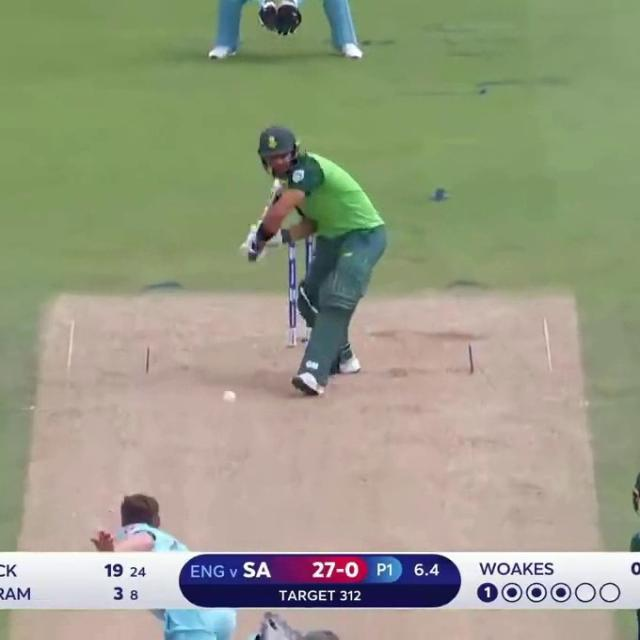bat: (262, 179, 281, 219)
